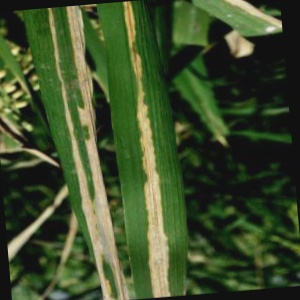Leaf_Blast: (112, 0, 179, 295), (41, 5, 104, 300)
